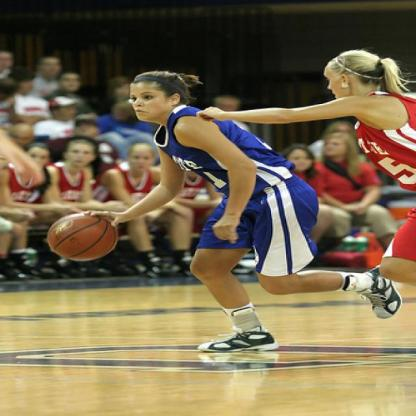basketball: (46, 213, 119, 261)
